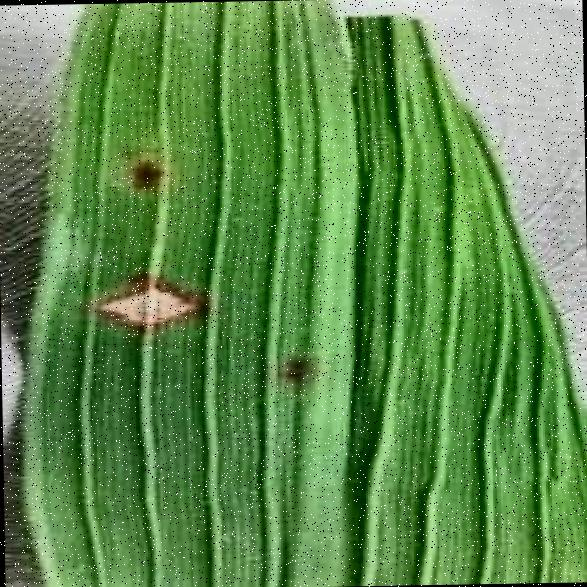Leaf_smut: (91, 132, 338, 393)
